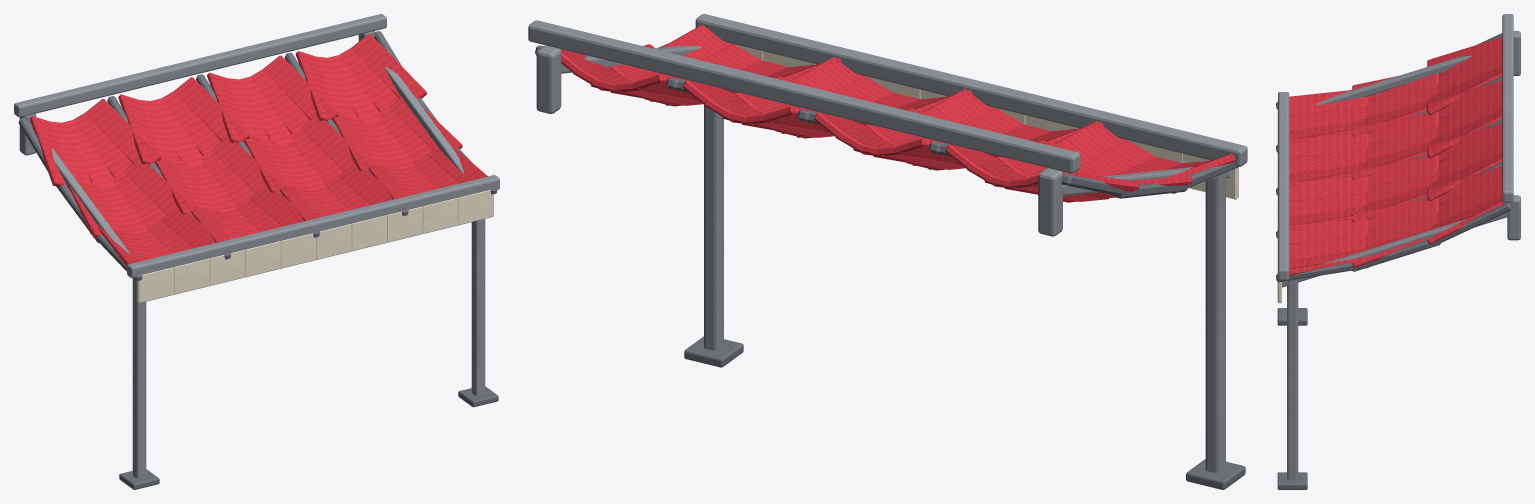
Rendered from misc_awning.glb.
3 renders of one model, left to right at view 1: azimuth 30°, elevation 25°; view 2: azimuth 150°, elevation 25°; view 3: azimuth 270°, elevation 25°, orthographic. The views are drawn at different scales.
Visible parts, largest first — view 1: misc_awning_canvas, misc_awning_valance, misc_awning_wall_rail, misc_awning_front_bar, misc_awning_post_l, misc_awning_post_r, misc_awning_ribs, misc_awning_arm_r, misc_awning_arm_l; view 2: misc_awning_canvas, misc_awning_wall_rail, misc_awning_front_bar, misc_awning_post_l, misc_awning_post_r, misc_awning_valance, misc_awning_ribs, misc_awning_stub_r, misc_awning_stub_l, misc_awning_post_foot_r, misc_awning_post_foot_l, misc_awning_arm_l; view 3: misc_awning_canvas, misc_awning_post_r, misc_awning_wall_rail, misc_awning_front_bar, misc_awning_ribs, misc_awning_arm_l, misc_awning_arm_r, misc_awning_stub_r, misc_awning_post_foot_r, misc_awning_stub_l, misc_awning_post_foot_l.
Boxes of the visible parts, bbox=[...] form: misc_awning_canvas: bbox=[30, 34, 495, 274]; misc_awning_valance: bbox=[136, 190, 493, 303]; misc_awning_wall_rail: bbox=[14, 14, 386, 117]; misc_awning_front_bar: bbox=[127, 175, 499, 278]; misc_awning_post_l: bbox=[132, 278, 146, 478]; misc_awning_post_r: bbox=[471, 219, 485, 395]; misc_awning_ribs: bbox=[18, 31, 497, 281]; misc_awning_arm_r: bbox=[385, 67, 463, 173]; misc_awning_arm_l: bbox=[30, 124, 130, 254]; misc_awning_canvas: bbox=[560, 25, 1235, 202]; misc_awning_wall_rail: bbox=[528, 20, 1080, 173]; misc_awning_front_bar: bbox=[695, 14, 1247, 166]; misc_awning_post_l: bbox=[1205, 172, 1225, 473]; misc_awning_post_r: bbox=[704, 105, 723, 350]; misc_awning_valance: bbox=[735, 44, 1238, 199]; misc_awning_ribs: bbox=[535, 43, 1238, 198]; misc_awning_stub_r: bbox=[536, 45, 561, 113]; misc_awning_stub_l: bbox=[1038, 168, 1062, 236]; misc_awning_post_foot_r: bbox=[684, 336, 743, 367]; misc_awning_post_foot_l: bbox=[1186, 459, 1245, 489]; misc_awning_arm_l: bbox=[1063, 167, 1229, 196]; misc_awning_canvas: bbox=[1289, 37, 1506, 275]; misc_awning_post_r: bbox=[1287, 279, 1298, 480]; misc_awning_wall_rail: bbox=[1502, 14, 1513, 202]; misc_awning_front_bar: bbox=[1278, 92, 1289, 280]; misc_awning_ribs: bbox=[1276, 33, 1511, 282]; misc_awning_arm_l: bbox=[1315, 55, 1471, 105]; misc_awning_arm_r: bbox=[1282, 212, 1507, 287]; misc_awning_stub_r: bbox=[1507, 195, 1520, 240]; misc_awning_post_foot_r: bbox=[1277, 472, 1307, 489]; misc_awning_stub_l: bbox=[1513, 31, 1520, 75]; misc_awning_post_foot_l: bbox=[1277, 308, 1307, 325].
Bounding box in the file's own units: 2.85 × 2.19 × 1.62.
4 materials, 4 textured.
